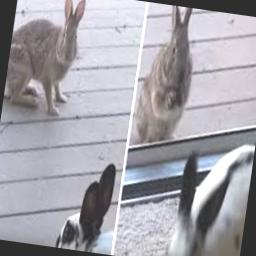rabbit: (166, 144, 254, 256), (5, 0, 84, 114), (134, 5, 191, 142), (55, 163, 115, 254)
